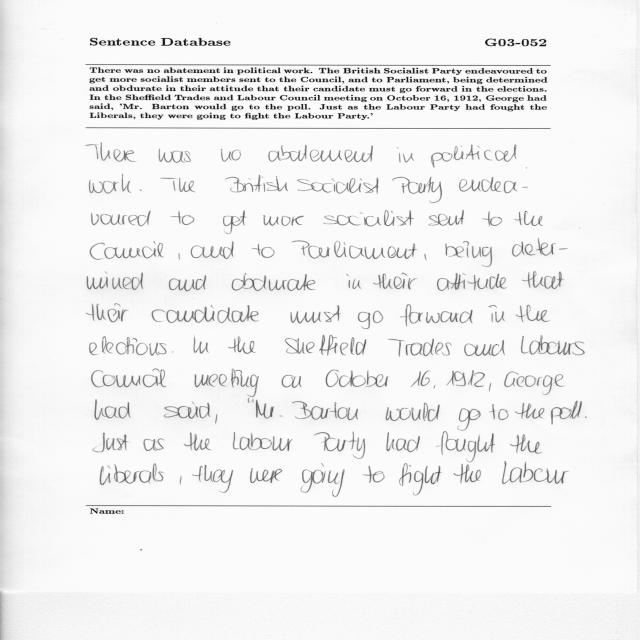word: (292, 240, 418, 259), (431, 144, 516, 168), (152, 305, 259, 323), (436, 432, 495, 463), (194, 369, 259, 397), (268, 145, 373, 162), (285, 335, 367, 356), (400, 304, 473, 327), (502, 461, 569, 484), (90, 336, 167, 356), (301, 463, 345, 497), (232, 273, 315, 291), (504, 371, 564, 395), (314, 431, 365, 459), (100, 463, 164, 485), (90, 241, 164, 260), (399, 463, 441, 496), (92, 369, 167, 387), (297, 178, 379, 194), (392, 177, 442, 203), (521, 335, 585, 355), (437, 273, 507, 291), (292, 401, 358, 420), (445, 241, 492, 267), (192, 465, 233, 493), (388, 339, 451, 357), (233, 432, 292, 451), (459, 177, 528, 193), (325, 370, 389, 387), (225, 175, 288, 192), (386, 403, 440, 422), (512, 239, 568, 257), (87, 272, 143, 290), (87, 143, 136, 162), (290, 306, 341, 324), (91, 211, 151, 226), (364, 210, 414, 227), (164, 402, 210, 419), (191, 241, 234, 259), (373, 273, 418, 290), (89, 175, 131, 193), (87, 304, 129, 322), (95, 399, 131, 420), (551, 401, 582, 425), (522, 272, 564, 289), (93, 433, 129, 452), (386, 433, 420, 453), (464, 340, 505, 356), (447, 370, 485, 387), (510, 434, 542, 454), (515, 305, 550, 322), (169, 275, 206, 291), (429, 210, 465, 226), (223, 210, 246, 234), (454, 464, 481, 484), (324, 213, 363, 226), (458, 409, 481, 431), (160, 178, 196, 192), (228, 336, 256, 354), (256, 400, 282, 419), (184, 433, 211, 451), (250, 468, 282, 483), (516, 403, 545, 419), (158, 149, 191, 163), (263, 215, 304, 226), (358, 311, 383, 329), (515, 211, 543, 226), (364, 466, 385, 483), (252, 243, 275, 258), (171, 211, 195, 225), (411, 370, 430, 387), (489, 404, 509, 420), (482, 211, 502, 226), (488, 305, 505, 322), (396, 147, 414, 163), (193, 336, 209, 354), (144, 438, 165, 451), (221, 149, 241, 162), (282, 375, 302, 388), (347, 274, 361, 289), (248, 398, 253, 403), (215, 414, 217, 424), (424, 254, 427, 260), (489, 383, 491, 391), (180, 476, 182, 484), (178, 253, 180, 260), (434, 385, 436, 388), (585, 416, 587, 418), (140, 190, 142, 191), (172, 352, 173, 353)
